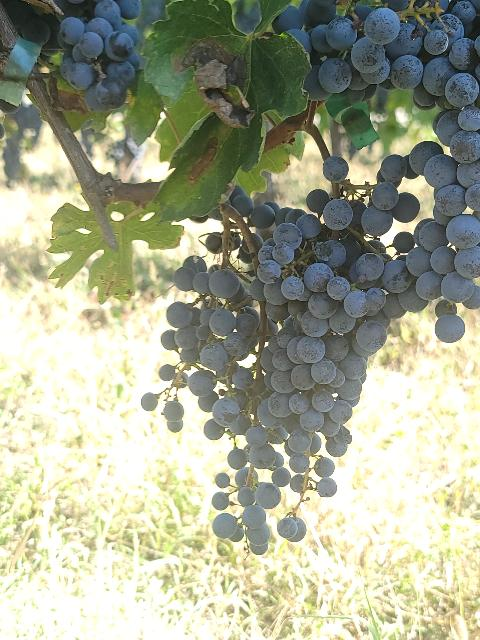grapes: (256, 179, 425, 508), (141, 212, 275, 554), (272, 0, 478, 149), (410, 38, 480, 342)
